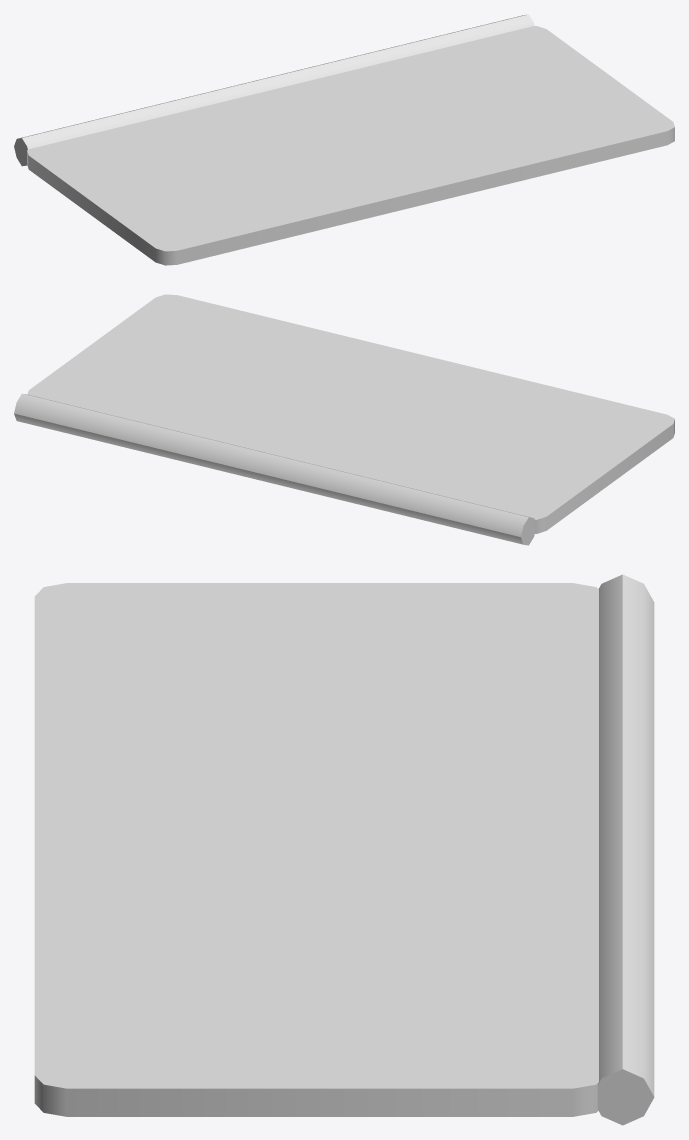
The model's file is Console_Mintendo_DX_Top.obj.
The picture shows the model from 3 angles, top to bottom: view 1: azimuth 30°, elevation 25°; view 2: azimuth 150°, elevation 25°; view 3: azimuth 270°, elevation 25°; orthographic projection. The views are drawn at different scales.
Visible parts, largest first — view 1: Console_Mintendo_DX_Top; view 2: Console_Mintendo_DX_Top; view 3: Console_Mintendo_DX_Top.
Part boxes in pixels (bbox=[...]): Console_Mintendo_DX_Top: bbox=[14, 14, 674, 265]; Console_Mintendo_DX_Top: bbox=[14, 294, 674, 545]; Console_Mintendo_DX_Top: bbox=[34, 574, 654, 1125].
Bounding box in the file's own units: 0.282 × 0.0147 × 0.1462.
